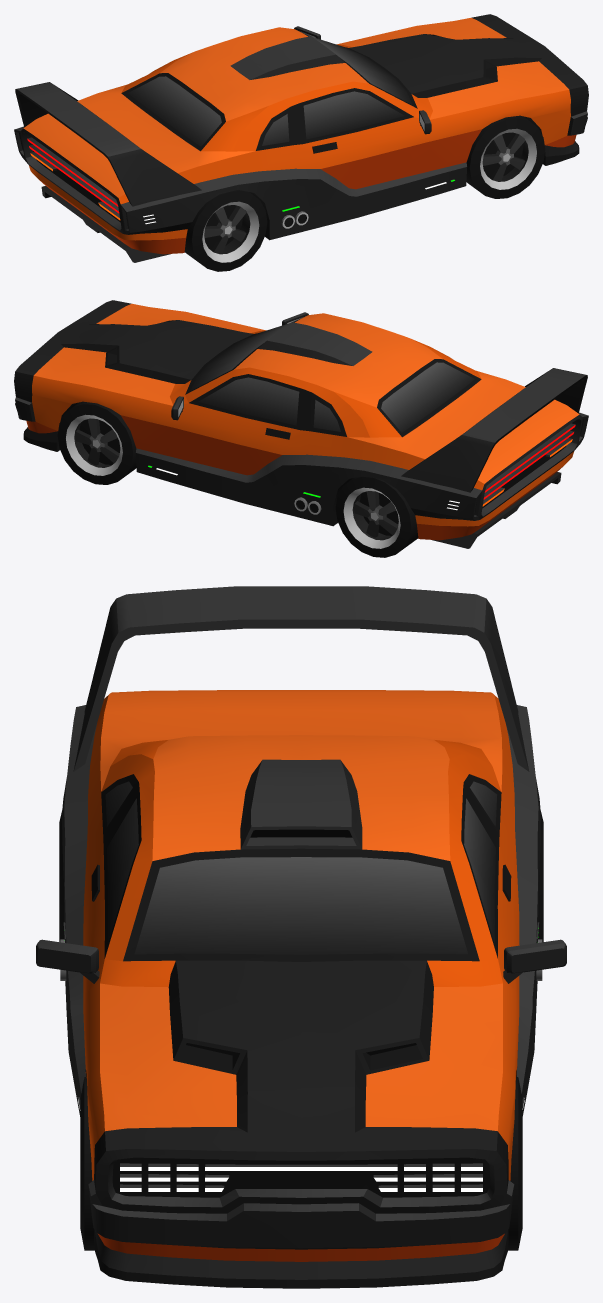
The model's file is Car_068.glb.
3 renders of one model, top to bottom at view 1: azimuth 30°, elevation 25°; view 2: azimuth 150°, elevation 25°; view 3: azimuth 270°, elevation 25°, orthographic. The views are drawn at different scales.
Parts seen in each view (by area): view 1: Car_068, wheel_3_Car_068_Wheel_2R, wheel_1_Car_068_Wheel_1R; view 2: Car_068, wheel_0_Car_068_Wheel_1L, wheel_2_Car_068_Wheel_2L; view 3: Car_068, wheel_0_Car_068_Wheel_1L, wheel_1_Car_068_Wheel_1R.
Part boxes in pixels (x1,y1,x2,y2): Car_068: (14, 14, 588, 262); wheel_3_Car_068_Wheel_2R: (184, 190, 267, 271); wheel_1_Car_068_Wheel_1R: (466, 115, 545, 198); Car_068: (14, 300, 588, 548); wheel_0_Car_068_Wheel_1L: (57, 401, 136, 484); wheel_2_Car_068_Wheel_2L: (335, 476, 418, 557); Car_068: (36, 586, 566, 1288); wheel_0_Car_068_Wheel_1L: (508, 1077, 522, 1250); wheel_1_Car_068_Wheel_1R: (80, 1077, 94, 1250).
Size of the model in its own units: 4.92 by 1.41 by 2.32.
Materials: 2 (2 with a texture image).
